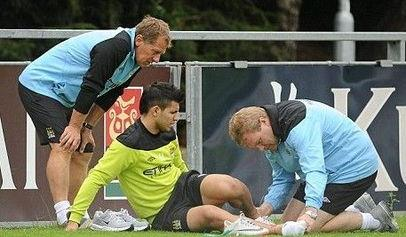bending: (63, 79, 304, 237), (19, 16, 174, 230), (223, 97, 396, 233)
